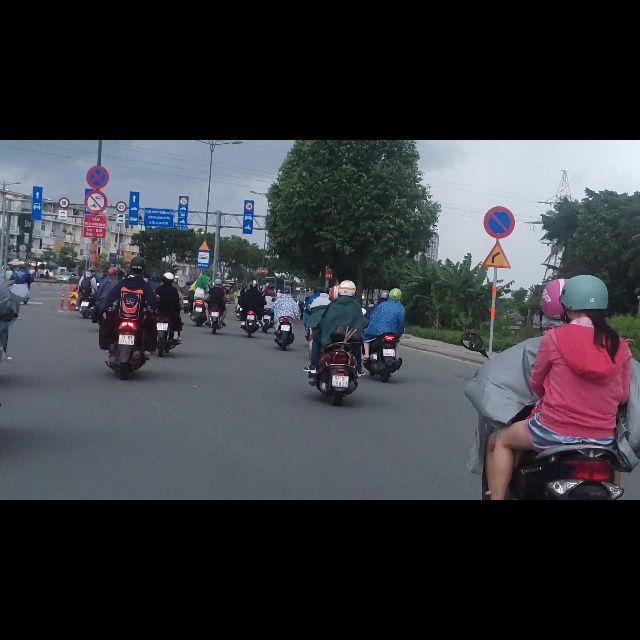bien_cam: (481, 116, 515, 177), (479, 178, 511, 228), (86, 43, 109, 88), (85, 88, 108, 132), (196, 197, 210, 229), (198, 177, 212, 199), (116, 108, 127, 129), (59, 101, 69, 121), (116, 130, 125, 148), (245, 110, 254, 124), (180, 100, 187, 117)
